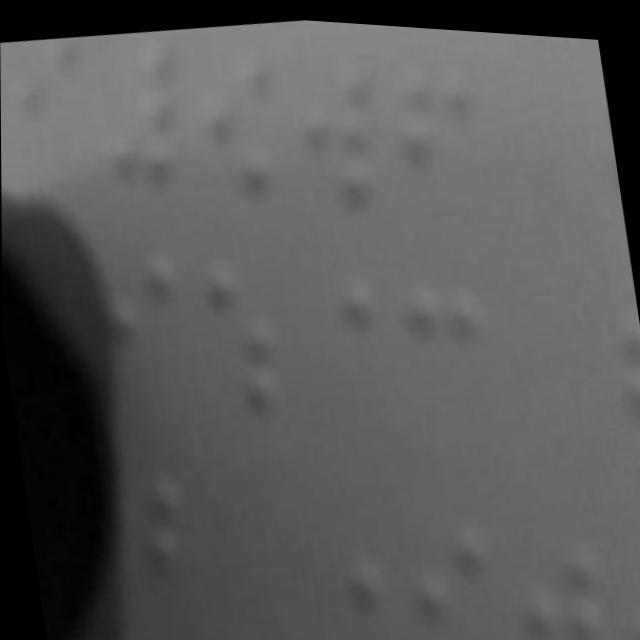braiile: (169, 34, 287, 223), (372, 249, 487, 436), (77, 23, 191, 205), (272, 43, 384, 217), (282, 262, 390, 434), (188, 257, 288, 429), (0, 31, 96, 210), (386, 497, 506, 640), (283, 496, 395, 640), (496, 514, 619, 640), (379, 44, 475, 205)
